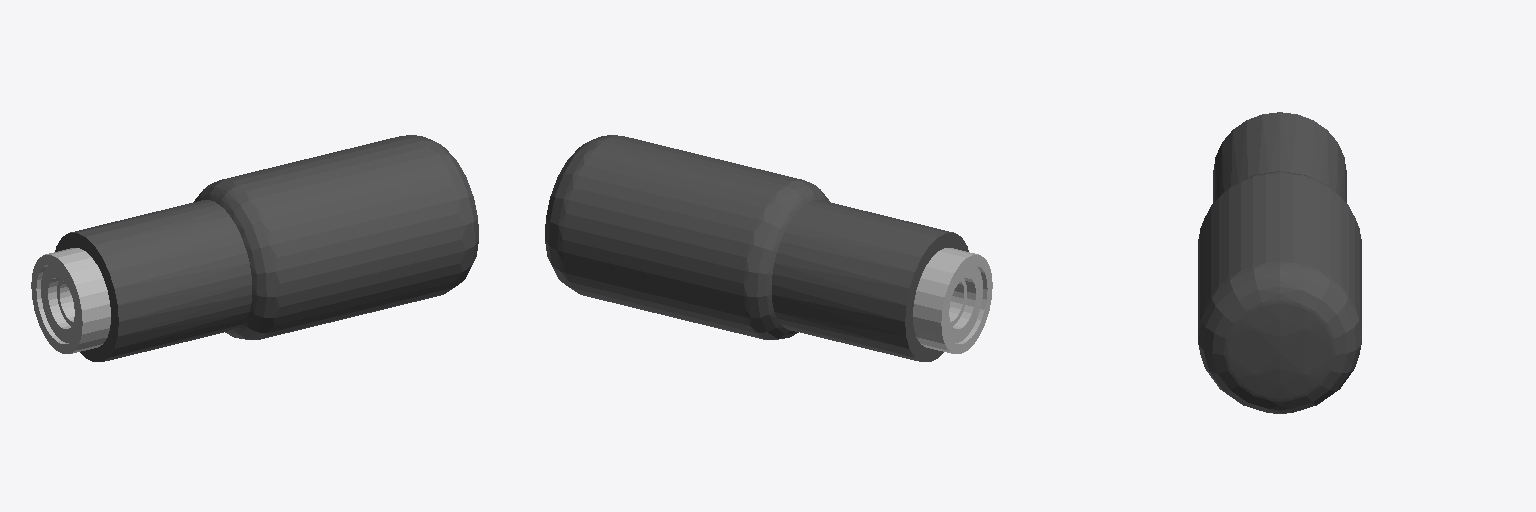
The picture shows the model from 3 angles: view 1: azimuth 30°, elevation 25°; view 2: azimuth 150°, elevation 25°; view 3: azimuth 270°, elevation 25°; orthographic projection.
Parts seen in each view (by area): view 1: gn_798_2-kt-16-m5_1; view 2: gn_798_2-kt-16-m5_1; view 3: gn_798_2-kt-16-m5_1.
Part boxes in pixels (x1,y1,x2,y2): gn_798_2-kt-16-m5_1: (31,135,478,361); gn_798_2-kt-16-m5_1: (545,135,992,361); gn_798_2-kt-16-m5_1: (1198,112,1361,413).
Bounding box in the file's own units: 44.7 × 16 × 15.95.